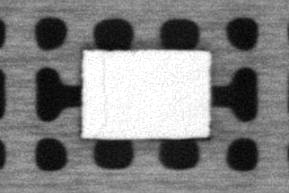DIE_CRACK: (96, 56, 109, 129)
